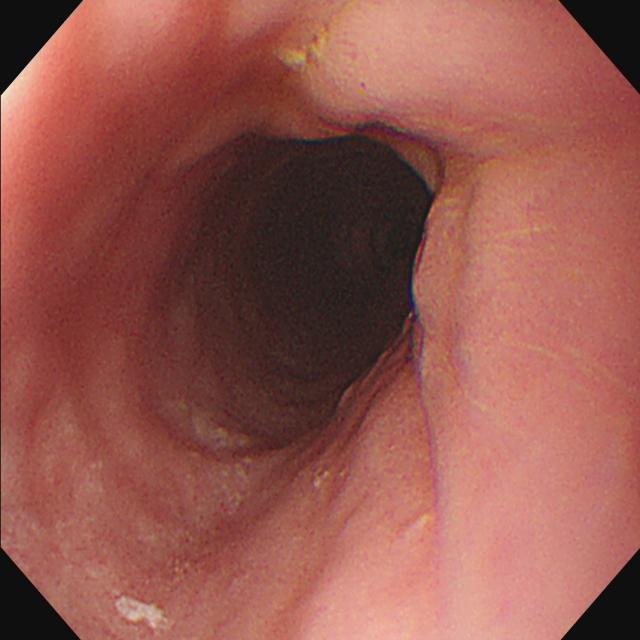E: (186, 109, 461, 408)
J: (273, 19, 332, 73), (118, 595, 167, 633)
